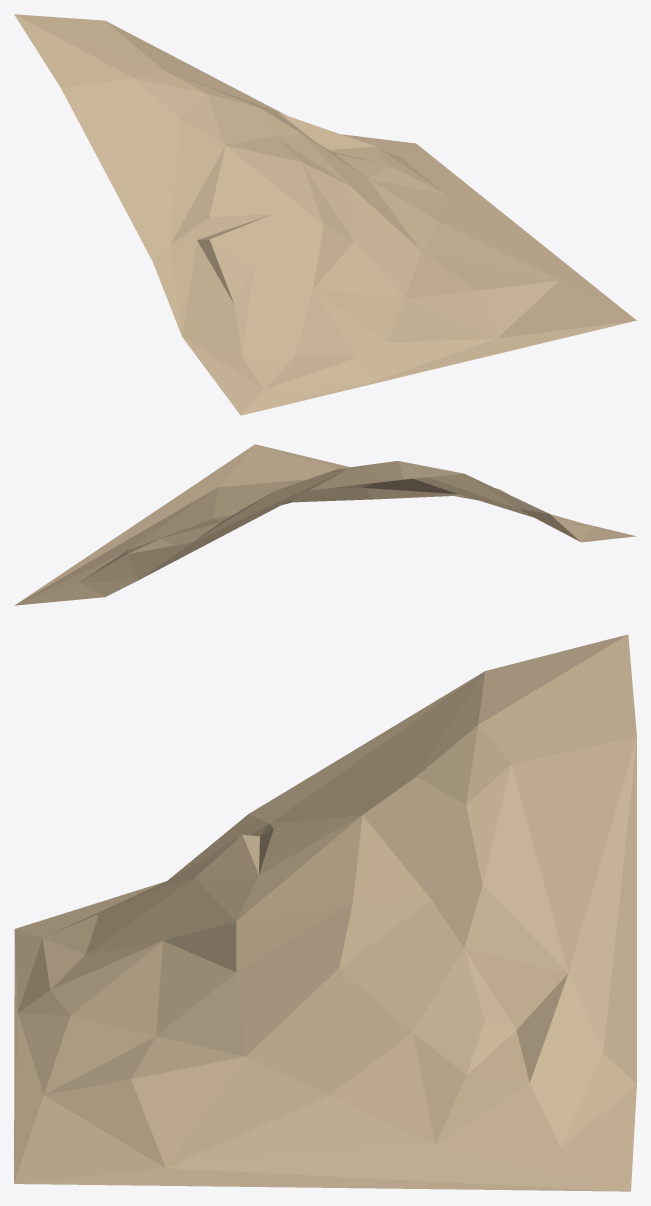
Rendered from SM_stone_debris_01.fbx.
3 renders of one model, top to bottom at view 1: azimuth 30°, elevation 25°; view 2: azimuth 150°, elevation 25°; view 3: azimuth 270°, elevation 25°, orthographic. The views are drawn at different scales.
Visible parts, largest first — view 1: stone_debris_01; view 2: stone_debris_01; view 3: stone_debris_01.
Part boxes in pixels (x1,y1,x2,y2): stone_debris_01: [14, 14, 636, 415]; stone_debris_01: [14, 444, 635, 605]; stone_debris_01: [14, 634, 636, 1191].
Bounding box in the file's own units: 236 × 126 × 236.
